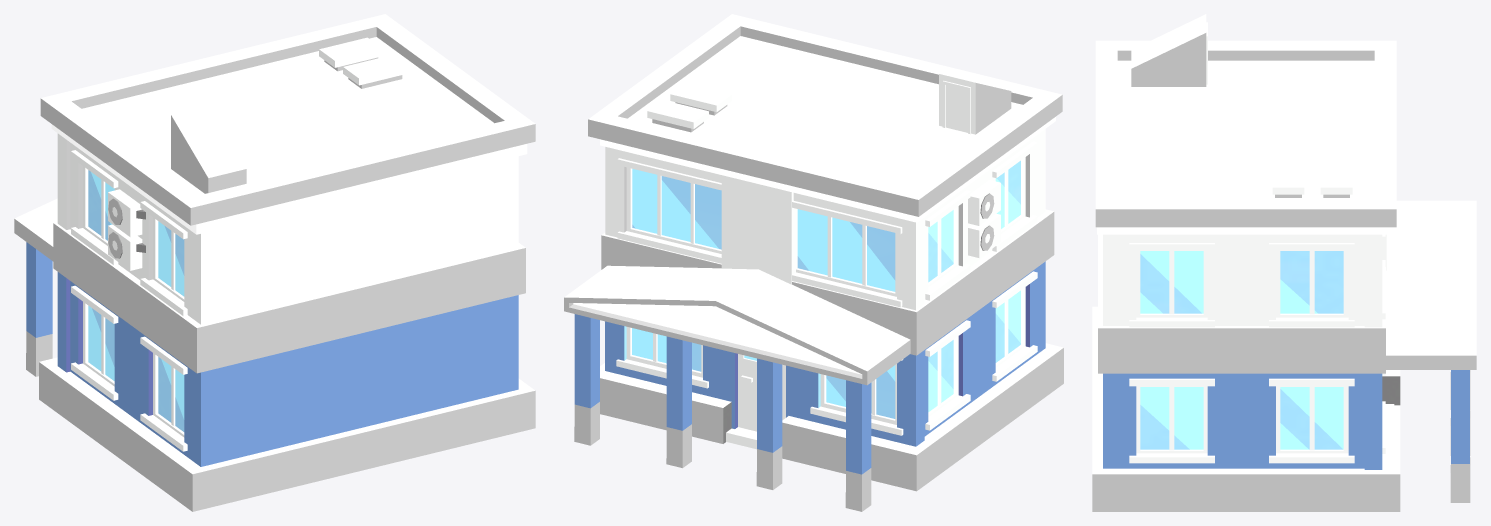
File: bank.007.glb
3 renders of one model, left to right at view 1: azimuth 30°, elevation 25°; view 2: azimuth 150°, elevation 25°; view 3: azimuth 270°, elevation 25°, orthographic. The views are drawn at different scales.
Parts seen in each view (by area): view 1: bank.007(Clone); view 2: bank.007(Clone); view 3: bank.007(Clone).
Part boxes in pixels (x1=…): bank.007(Clone): x1=14, y1=14, x2=535, y2=511; bank.007(Clone): x1=564, y1=14, x2=1063, y2=511; bank.007(Clone): x1=1092, y1=14, x2=1476, y2=511.
Size of the model in its own units: 7.14 by 6.88 by 6.87.
Materials: 1 (1 with a texture image).
